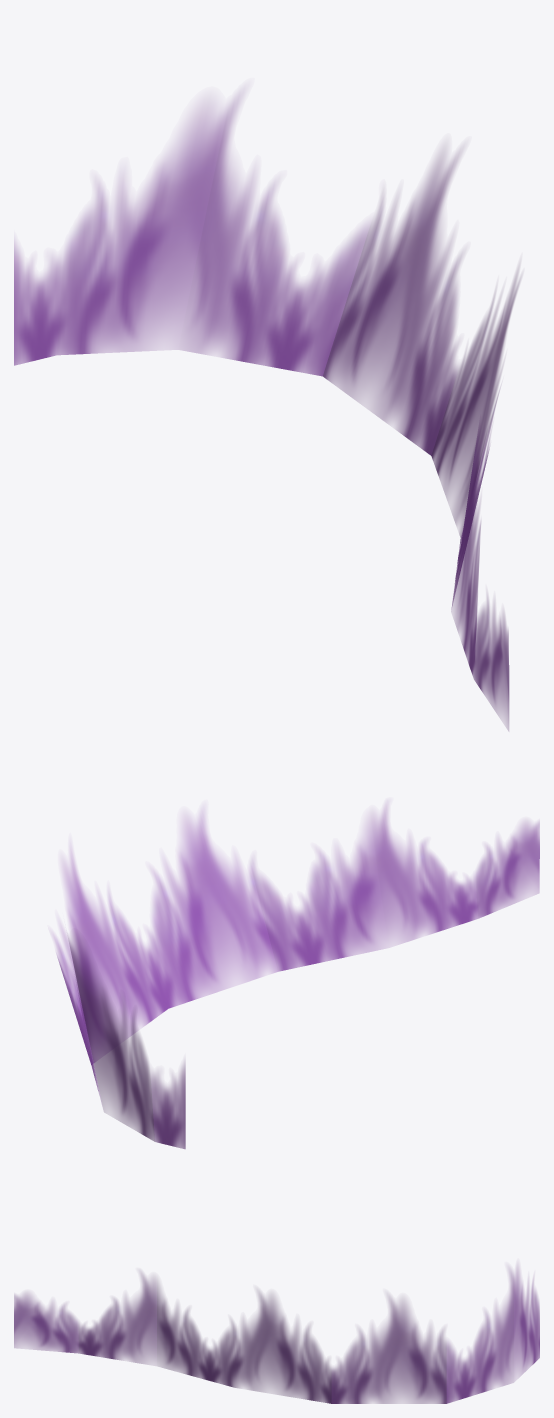
The model's file is dash_charge_fx.glb.
3 views of the same model, one above another, from view 1: azimuth 30°, elevation 25°; view 2: azimuth 150°, elevation 25°; view 3: azimuth 270°, elevation 25° (orthographic). The views are drawn at different scales.
Visible parts, largest first — view 1: Plane; view 2: Plane; view 3: Plane.
Boxes of the visible parts, left/top/right/bottom form: Plane: left=14, top=92, right=520, bottom=730; Plane: left=52, top=803, right=539, bottom=1148; Plane: left=14, top=1265, right=539, bottom=1403.
Size of the model in its own units: 0.9772 by 0.909 by 2.54.
1 material, 1 textured.
